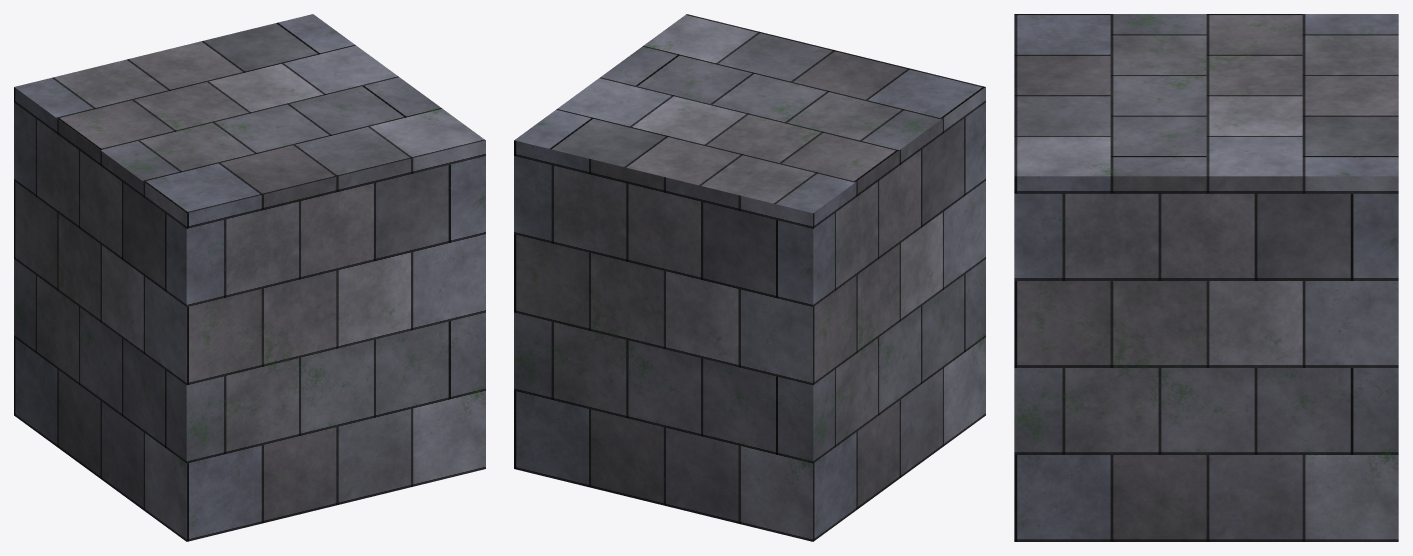
The model's file is SM_dg_wall.glb.
3 views of the same model, side by side, from view 1: azimuth 30°, elevation 25°; view 2: azimuth 150°, elevation 25°; view 3: azimuth 270°, elevation 25° (orthographic). The views are drawn at different scales.
Visible parts, largest first — view 1: SM_dg_wall; view 2: SM_dg_wall; view 3: SM_dg_wall.
Part boxes in pixels (x1,y1,x2,y2): SM_dg_wall: [14, 14, 485, 541]; SM_dg_wall: [514, 14, 985, 541]; SM_dg_wall: [1014, 14, 1398, 541].
Bounding box in the file's own units: 4 × 4.2 × 4.
Materials: 1 (1 with a texture image).
